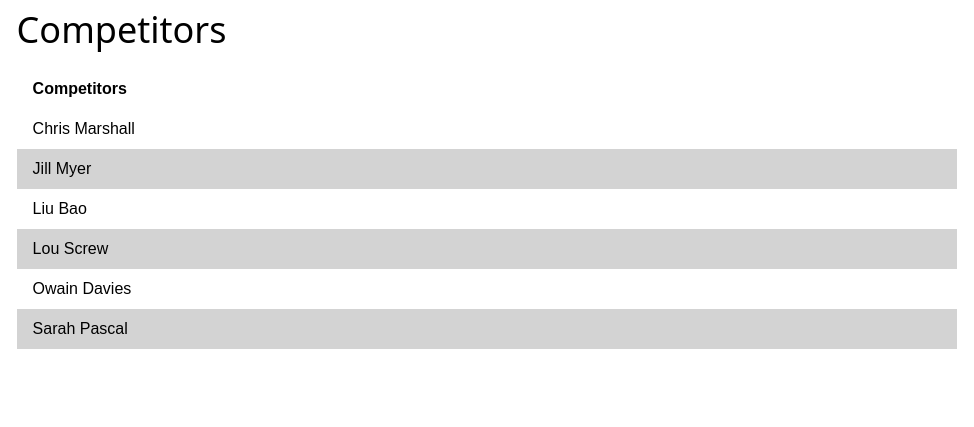
when a competitor is selected › when update button clicked › when update is successful › hides input fields for updating competitor
Click the cell "Chris Marshall": (84, 129) [17,109,957,149]
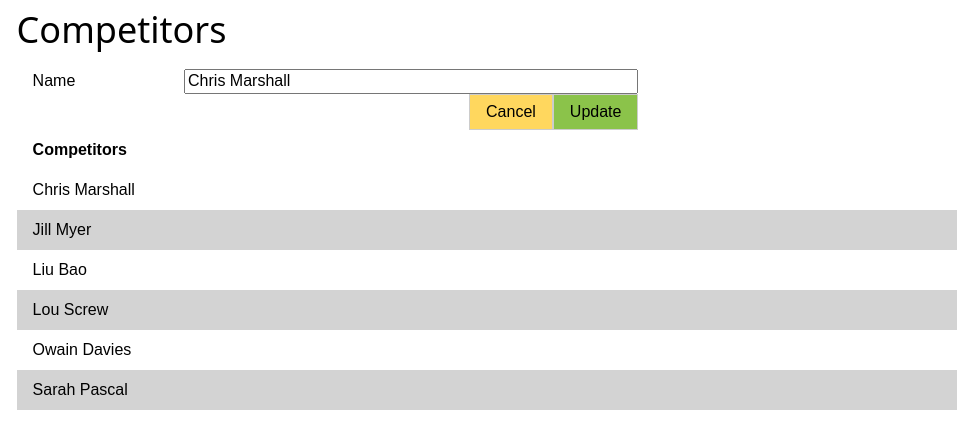
Replace the text in the field labelled "Name" with "John Smith": (411, 82) [184,69,638,94]
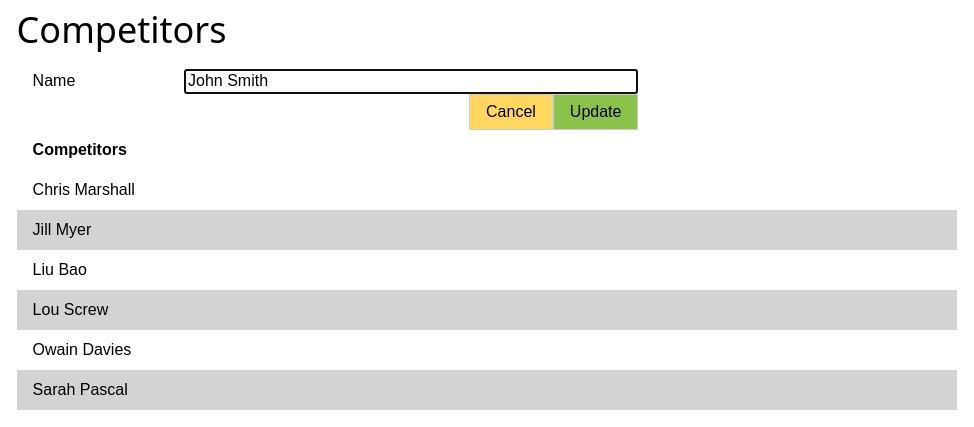
Click the button "Update": (596, 112) [553,94,638,130]
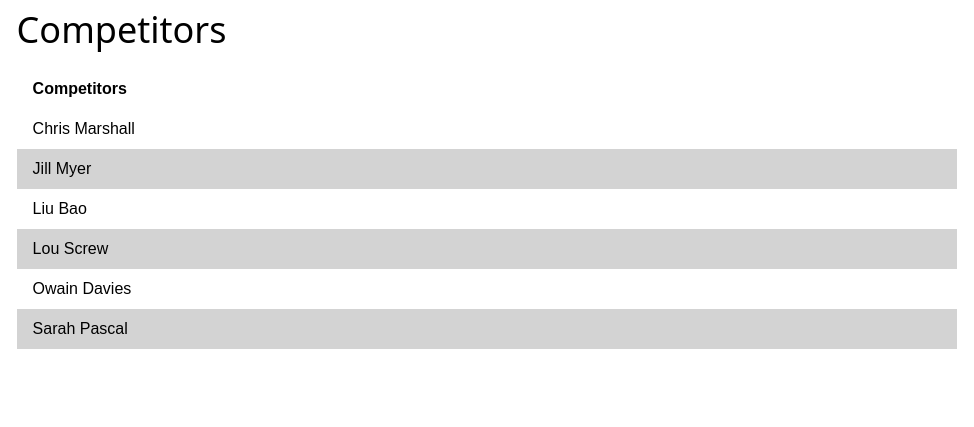
Result: the label labelled "Name" is gone
Result: the button "Update" is gone
